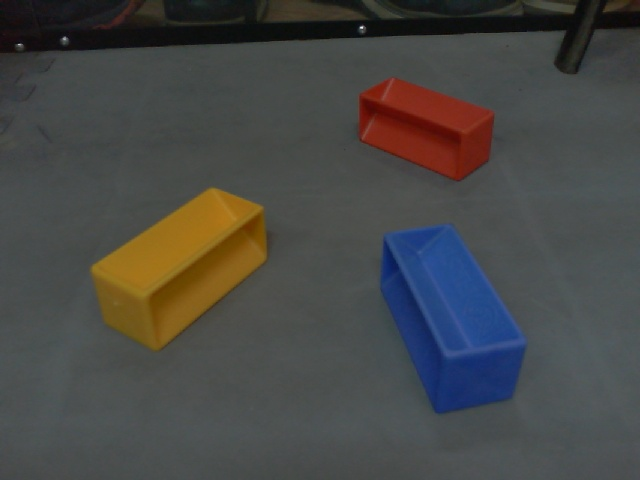BlueSample: (375, 223, 531, 416)
RedSample: (357, 77, 497, 183)
YellowSample: (85, 183, 269, 360)
